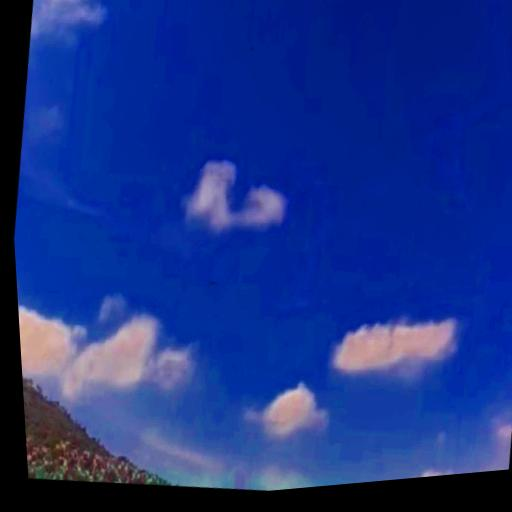drones: (200, 273, 222, 293)
